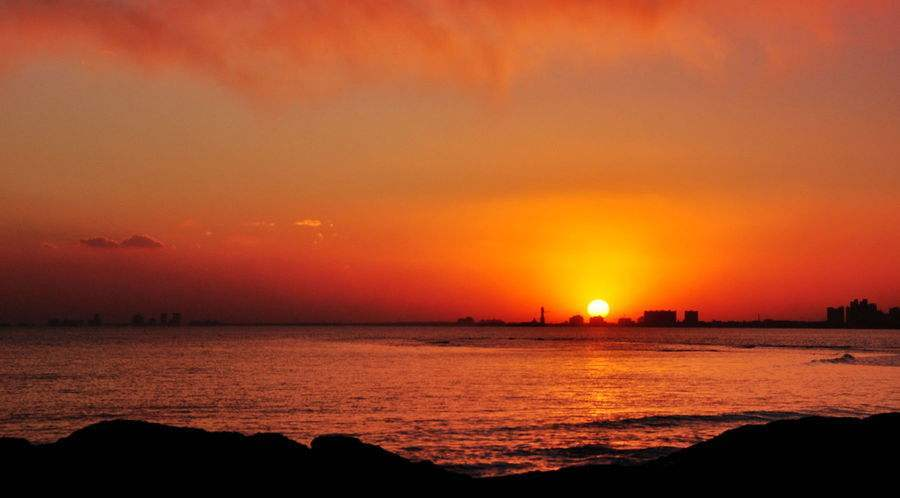sea_river: (5, 324, 863, 441)
sky_cloud: (17, 52, 861, 303)
